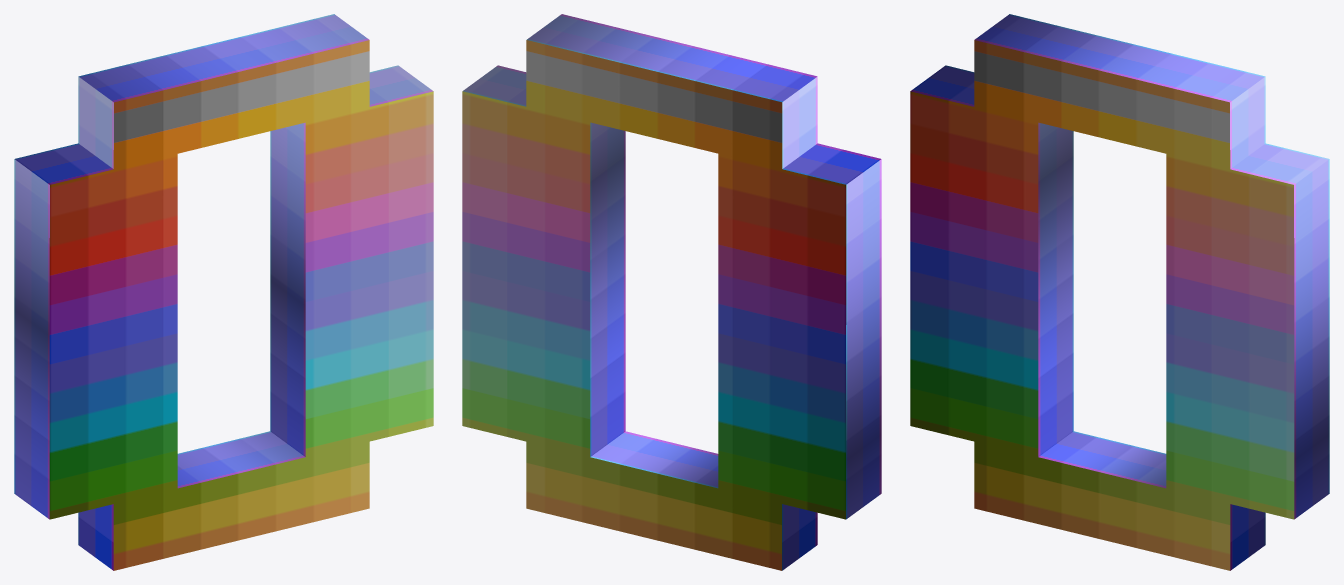
The picture shows the model from 3 angles, left to right: view 1: azimuth 30°, elevation 25°; view 2: azimuth 150°, elevation 25°; view 3: azimuth 330°, elevation 25°; orthographic projection.
Parts seen in each view (by area): view 1: o; view 2: o; view 3: o.
Part boxes in pixels (x1=…): o: x1=14, y1=14, x2=433, y2=570; o: x1=462, y1=14, x2=881, y2=570; o: x1=910, y1=14, x2=1329, y2=570.
Bounding box in the file's own units: 0.5 × 0.5834 × 0.0803.
1 material, 1 textured.
